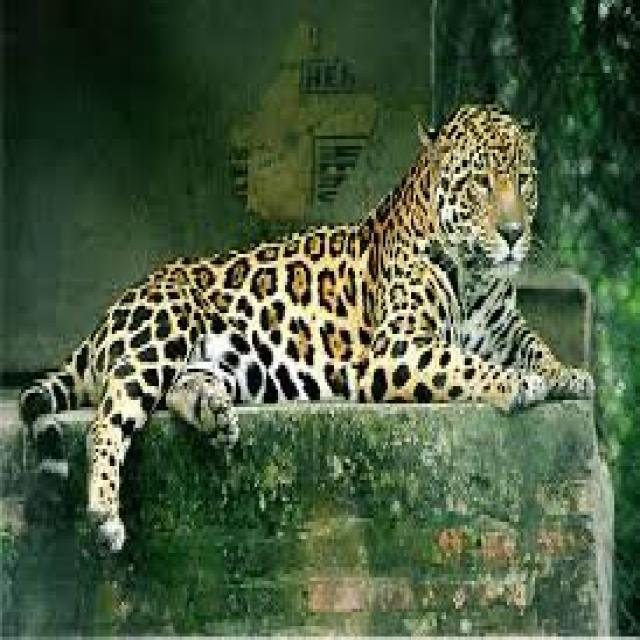Jaguar: (28, 98, 598, 550)
